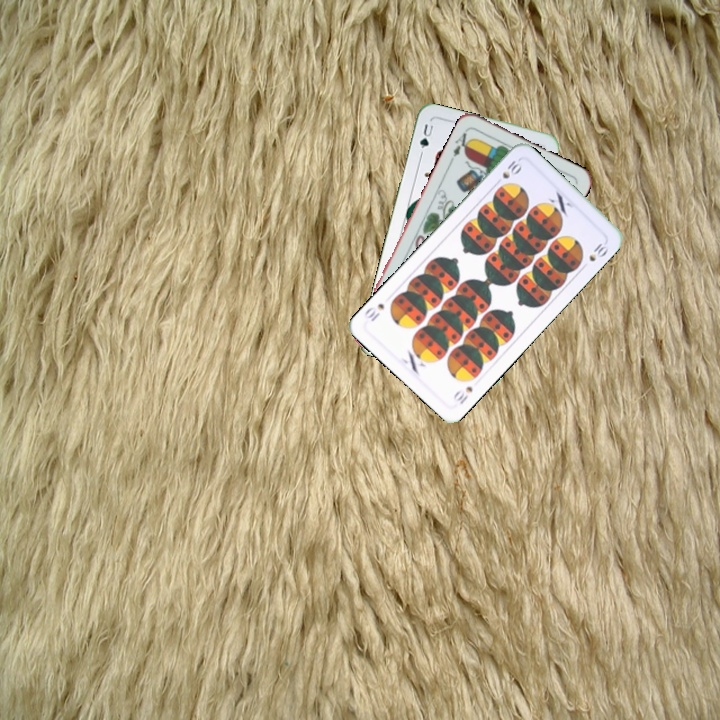EA: (446, 125, 474, 164)
GU: (415, 120, 436, 151)
S10: (491, 156, 525, 188), (449, 382, 475, 407)
